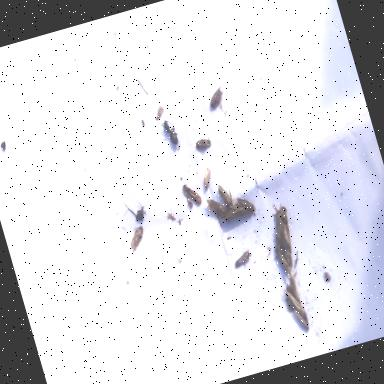pbw: (276, 203, 299, 253), (284, 285, 308, 323), (124, 225, 150, 256), (204, 194, 228, 222), (277, 230, 294, 269), (181, 179, 203, 209), (206, 85, 228, 113), (220, 200, 249, 220), (269, 209, 287, 239), (234, 192, 256, 215), (274, 240, 290, 270), (216, 182, 234, 208), (232, 247, 252, 269), (288, 272, 302, 302), (194, 132, 213, 154), (294, 306, 310, 332), (200, 166, 215, 190)
